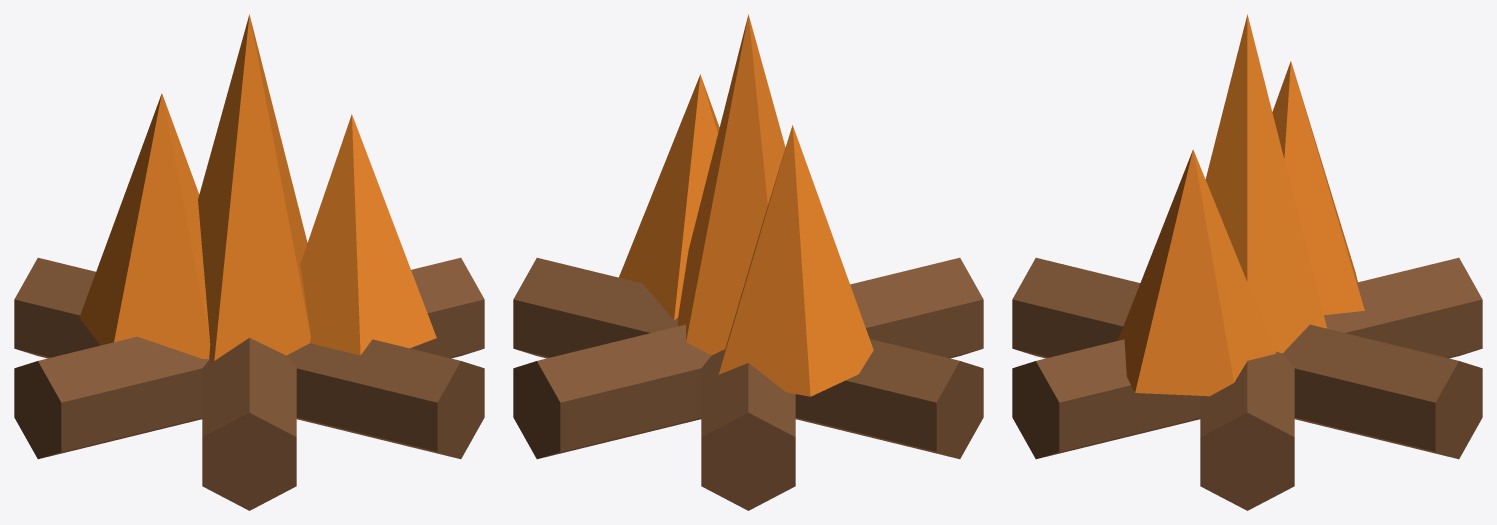
Rendered from fire.obj.
The picture shows the model from 3 angles, left to right: view 1: azimuth 30°, elevation 25°; view 2: azimuth 150°, elevation 25°; view 3: azimuth 270°, elevation 25°; orthographic projection.
Parts seen in each view (by area): view 1: flame, fire; view 2: fire, flame; view 3: fire, flame.
Boxes of the visible parts, x1,y1,x2,y2 form: flame: [79, 14, 436, 360]; fire: [14, 257, 484, 510]; fire: [513, 257, 983, 510]; flame: [619, 14, 873, 396]; fire: [1012, 257, 1482, 510]; flame: [1118, 14, 1364, 396].
Size of the model in its own units: 0.45 by 0.4 by 0.433.
